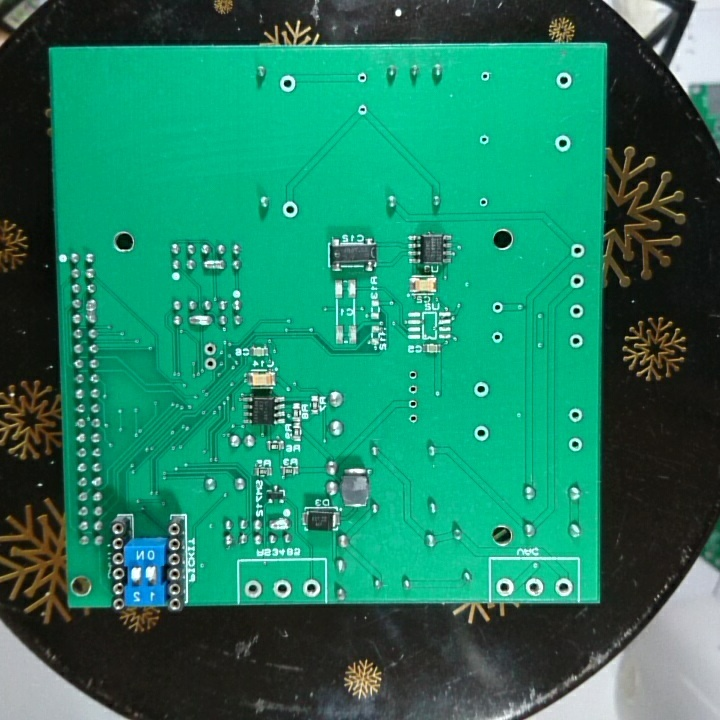F: (299, 577, 322, 600), (242, 578, 265, 601), (551, 133, 574, 155), (551, 576, 574, 598), (523, 575, 545, 598), (279, 198, 300, 220), (277, 73, 299, 94), (271, 578, 292, 600), (554, 69, 574, 92), (494, 576, 514, 599), (565, 434, 585, 456), (568, 240, 587, 262), (566, 406, 585, 426), (567, 330, 585, 351), (567, 302, 585, 322), (472, 423, 490, 443), (488, 298, 506, 318), (568, 271, 586, 290), (472, 381, 491, 399), (202, 355, 218, 372), (403, 410, 420, 426), (405, 380, 420, 397), (201, 341, 219, 355), (354, 70, 369, 86), (477, 132, 492, 148), (405, 396, 420, 412), (477, 193, 490, 211), (406, 367, 420, 383), (490, 329, 503, 346), (478, 69, 492, 84), (355, 102, 368, 118)
P: (186, 312, 214, 328), (84, 297, 99, 324), (266, 517, 292, 532), (202, 258, 226, 273)
